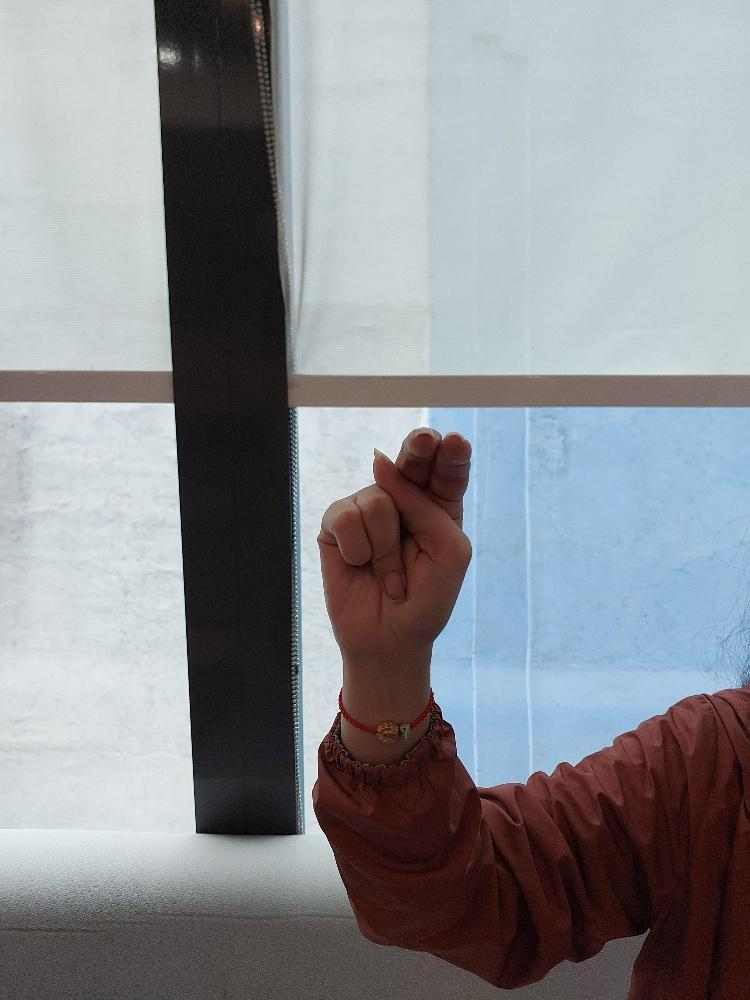n: (316, 424, 476, 651)
